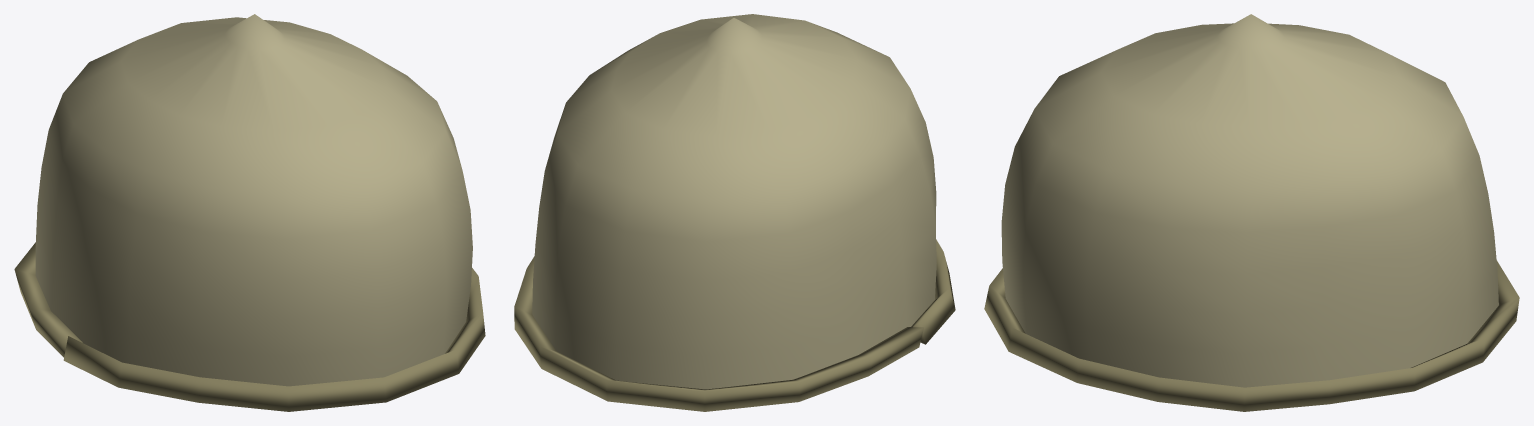
Rendered from tin_helmet.glb.
The picture shows the model from 3 angles, left to right: view 1: azimuth 30°, elevation 25°; view 2: azimuth 150°, elevation 25°; view 3: azimuth 270°, elevation 25°; orthographic projection. The views are drawn at different scales.
Visible parts, largest first — view 1: tin_helmet_head; view 2: tin_helmet_head; view 3: tin_helmet_head.
Part boxes in pixels (<box>): tin_helmet_head: <box>14,14,485,411</box>; tin_helmet_head: <box>514,14,955,411</box>; tin_helmet_head: <box>984,14,1519,411</box>.
Size of the model in its own units: 0.2403 by 0.1779 by 0.281.
